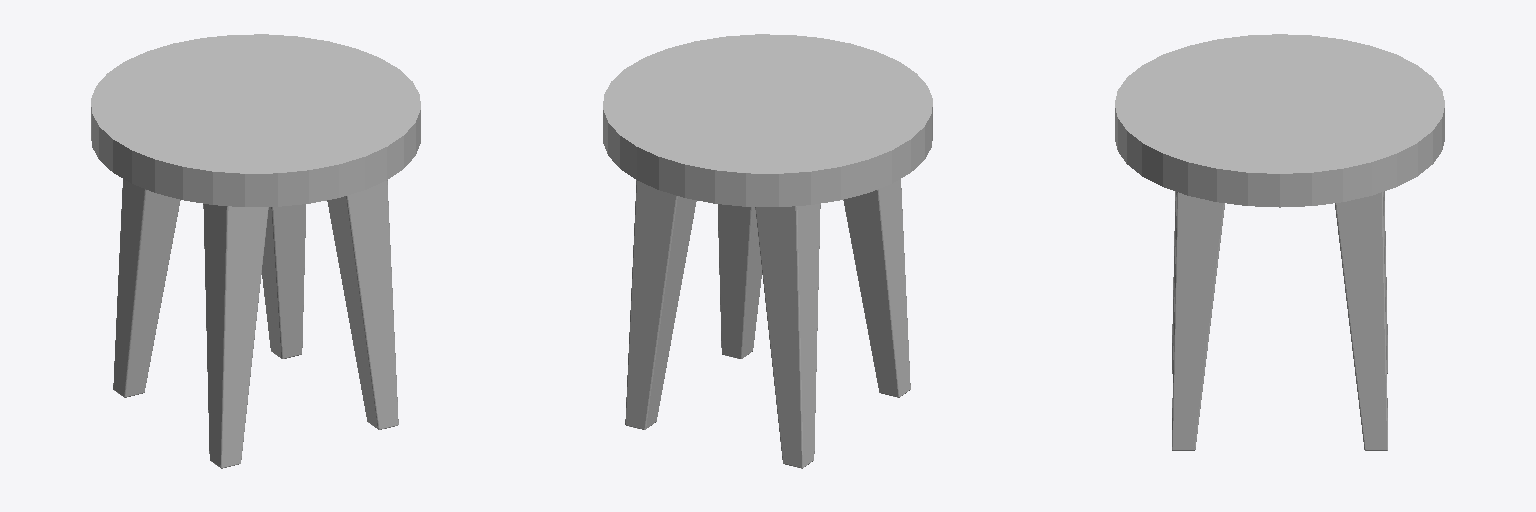
The model's file is sc1_table.obj.
3 views of the same model, side by side, from view 1: azimuth 30°, elevation 25°; view 2: azimuth 150°, elevation 25°; view 3: azimuth 270°, elevation 25° (orthographic).
Visible parts, largest first — view 1: Table, Table-Legs; view 2: Table, Table-Legs; view 3: Table, Table-Legs.
Part boxes in pixels (x1,y1,x2,y2): Table: (91, 34, 420, 206); Table-Legs: (113, 179, 398, 468); Table: (603, 34, 932, 206); Table-Legs: (625, 179, 910, 468); Table: (1115, 34, 1444, 207); Table-Legs: (1172, 191, 1387, 450).
Bounding box in the file's own units: 2 × 2.03 × 2.